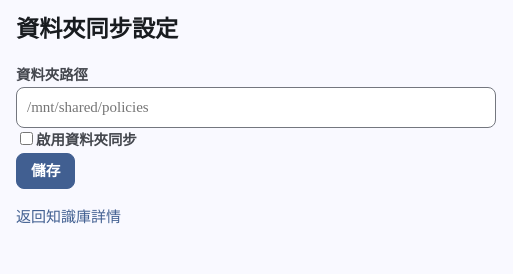
it: KnowledgeFolderSyncEditor (E05-S016) › shows the SPECIFIC validation message and keeps the entered path when enabling without a path fails
Expected: the field labelled "資料夾路徑" is shown, [16,88,496,128]
Click the checkbox labelled "啟用資料夾同步": (26, 139) [20,132,33,145]
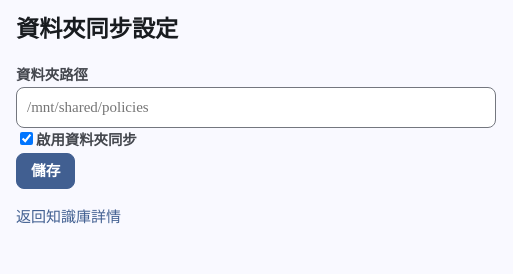
Click the button "儲存": (46, 171) [16,153,76,189]
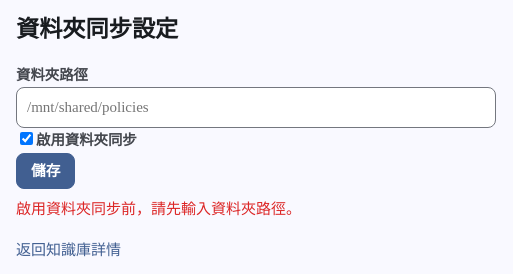
Now the checkbox labelled "啟用資料夾同步" is checked, box [20,132,33,145]
Now the message reads "啟用資料夾同步前，請先輸入資料夾路徑。", box [16,201,301,217]
